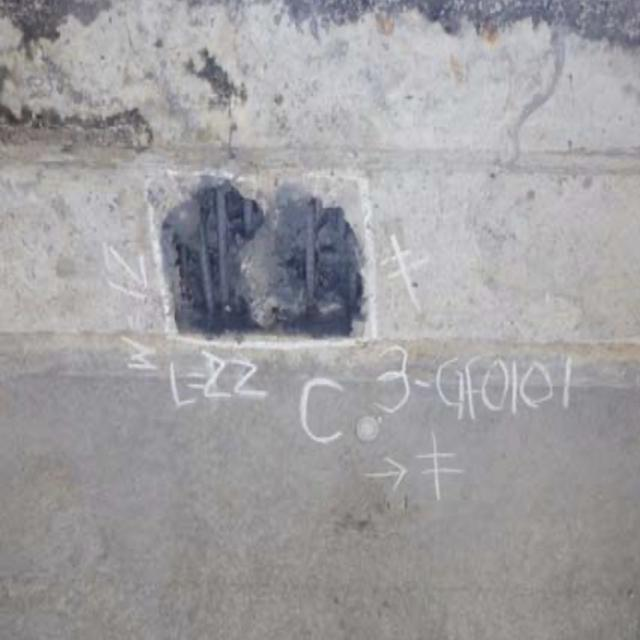spalling: (138, 170, 386, 360)
